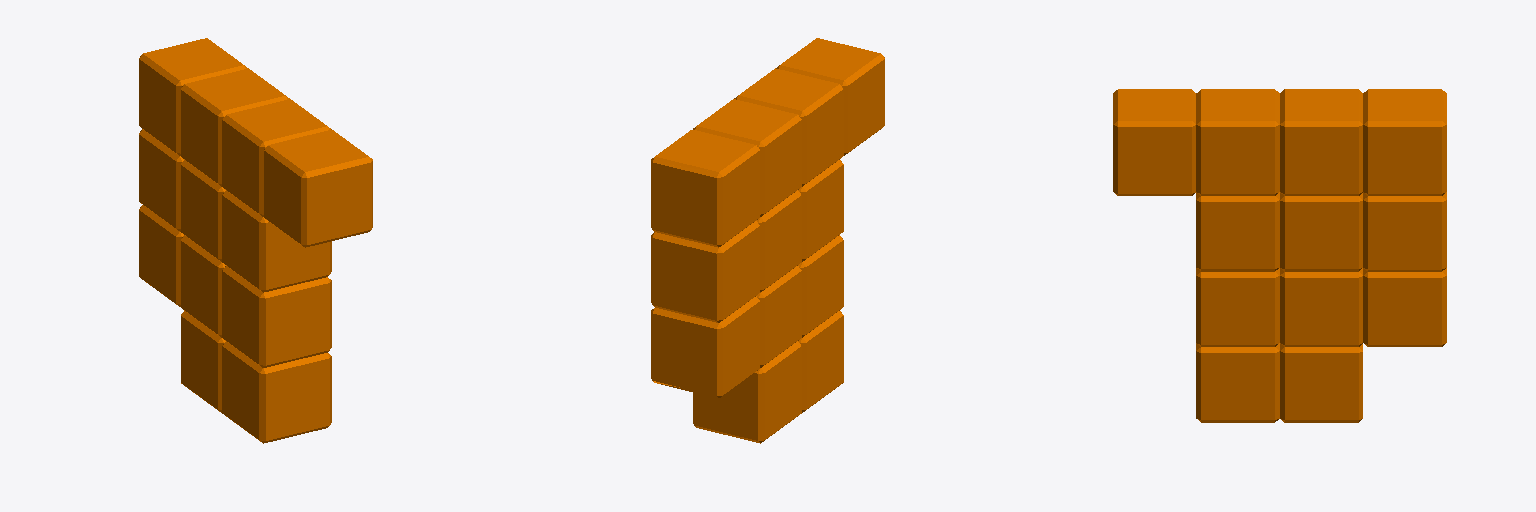
Rendered from piece5.obj.
The picture shows the model from 3 angles: view 1: azimuth 30°, elevation 25°; view 2: azimuth 150°, elevation 25°; view 3: azimuth 270°, elevation 25°; orthographic projection.
Visible parts, largest first — view 1: Cube.005; view 2: Cube.005; view 3: Cube.005.
Boxes of the visible parts, x1,y1,x2,y2 form: Cube.005: [139, 38, 372, 443]; Cube.005: [651, 38, 884, 443]; Cube.005: [1113, 89, 1446, 422].
Size of the model in its own units: 2 by 7.99 by 8.01.